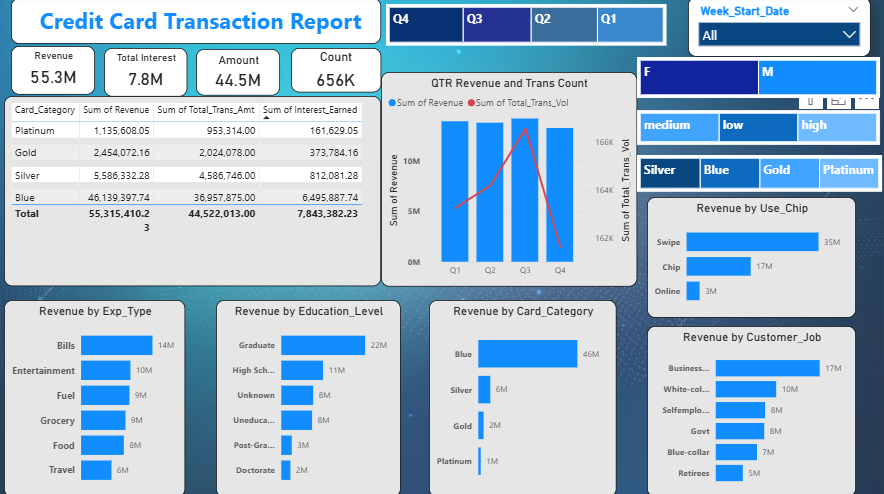

The dashboard page shown, as its layout file describes it:
{"tool":"powerbi","page":{"name":"cc transaction","canvas":[1280,720],"ordinal":0},"visuals":[{"type":"textbox","box":[20,1.4,532.9,65.7],"z":0},{"type":"lineStackedColumnComboChart","title":"QTR Revenue and Trans Count","fields":{"Category":["ccdb credit_card.Qtr"],"Y":["Sum(ccdb credit_card.Revenue)"],"Y2":["Sum(ccdb credit_card.Total_Trans_Vol)"]},"box":[552.9,108.6,368.6,308.6],"z":1000},{"type":"barChart","title":"Revenue by Exp_Type","fields":{"Y":["Sum(ccdb credit_card.Revenue)"],"Category":["ccdb credit_card.Exp_Type"]},"box":[10,435.7,261.4,284.3],"z":2000},{"type":"barChart","title":"Revenue by Customer_Job","fields":{"Category":["ccdb customer.Customer_Job"],"Y":["Sum(ccdb credit_card.Revenue)"]},"box":[936,473.8,301,246.2],"z":3000},{"type":"barChart","title":"Revenue by Education_Level","fields":{"Category":["ccdb customer.Education_Level"],"Y":["Sum(ccdb credit_card.Revenue)"]},"box":[315.7,435.7,265.7,284.3],"z":4000},{"type":"barChart","title":"Revenue by Card_Category","fields":{"Y":["Sum(ccdb credit_card.Revenue)"],"Category":["ccdb credit_card.Card_Category"]},"box":[621.4,435.7,270,284.3],"z":5000},{"type":"barChart","title":"Revenue by Use_Chip","fields":{"Y":["Sum(ccdb credit_card.Revenue)"],"Category":["ccdb credit_card.Use_Chip"]},"box":[936,288,301,174.2],"z":6000},{"type":"tableEx","fields":{"Values":["ccdb credit_card.Card_Category","Sum(ccdb credit_card.Revenue)","Sum(ccdb credit_card.Total_Trans_Amt)","Sum(ccdb credit_card.Interest_Earned)"]},"box":[10,142.9,542.9,274.3],"z":7000},{"type":"card","title":"Revenue","fields":{"Values":["Sum(ccdb credit_card.Revenue)"]},"box":[20,70,121.4,70],"z":8000},{"type":"card","title":"Total Interest","fields":{"Values":["Sum(ccdb credit_card.Interest_Earned)"]},"box":[154.3,72.9,120,70],"z":9000},{"type":"card","title":"Amount","fields":{"Values":["Sum(ccdb credit_card.Total_Trans_Amt)"]},"box":[287.1,74.3,121.4,67.1],"z":10000},{"type":"card","title":"Count","fields":{"Values":["Sum(ccdb credit_card.Total_Trans_Vol)"]},"box":[422.9,72.9,130,64.3],"z":11000},{"type":"slicer","fields":{"Values":["ccdb credit_card.Week_Start_Date"]},"box":[995.7,0,262.9,85.7],"z":12000},{"type":"treemap","fields":{"Values":["Avg(ccdb credit_card.Client_Num)"],"Details":["ccdb credit_card.Qtr"]},"box":[560,10,404.3,60],"z":13000},{"type":"treemap","fields":{"Group":["ccdb credit_card.Card_Category"],"Values":["Avg(ccdb credit_card.Client_Num)"]},"box":[921.4,227.1,352.9,52.9],"z":14000},{"type":"treemap","fields":{"Group":["ccdb customer.income_group"],"Values":["Avg(ccdb credit_card.Client_Num)"]},"box":[921.6,162.7,349.9,50.4],"z":15000},{"type":"treemap","fields":{"Group":["ccdb customer.Gender"],"Values":["Avg(ccdb credit_card.Client_Num)"]},"box":[921.6,86.4,349.9,59],"z":16000}]}

Visuals, with their boxes in screenshot pixels (x1, y1, x2, y2), scaled from the page's 1280x720 canvas onto the 884x494 screenshot:
textbox: (x1=14, y1=1, x2=382, y2=46)
"QTR Revenue and Trans Count" lineStackedColumnComboChart: (x1=382, y1=75, x2=636, y2=286)
"Revenue by Exp_Type" barChart: (x1=7, y1=299, x2=187, y2=493)
"Revenue by Customer_Job" barChart: (x1=646, y1=325, x2=854, y2=493)
"Revenue by Education_Level" barChart: (x1=218, y1=299, x2=402, y2=493)
"Revenue by Card_Category" barChart: (x1=429, y1=299, x2=616, y2=493)
"Revenue by Use_Chip" barChart: (x1=646, y1=198, x2=854, y2=317)
tableEx - ccdb credit_card.Card_Category x Sum(ccdb credit_card.Revenue): (x1=7, y1=98, x2=382, y2=286)
"Revenue" card: (x1=14, y1=48, x2=98, y2=96)
"Total Interest" card: (x1=107, y1=50, x2=189, y2=98)
"Amount" card: (x1=198, y1=51, x2=282, y2=97)
"Count" card: (x1=292, y1=50, x2=382, y2=94)
slicer - ccdb credit_card.Week_Start_Date: (x1=688, y1=0, x2=869, y2=59)
treemap - Avg(ccdb credit_card.Client_Num) x ccdb credit_card.Qtr: (x1=387, y1=7, x2=666, y2=48)
treemap - ccdb credit_card.Card_Category x Avg(ccdb credit_card.Client_Num): (x1=636, y1=156, x2=880, y2=192)
treemap - ccdb customer.income_group x Avg(ccdb credit_card.Client_Num): (x1=636, y1=112, x2=878, y2=146)
treemap - ccdb customer.Gender x Avg(ccdb credit_card.Client_Num): (x1=636, y1=59, x2=878, y2=100)
